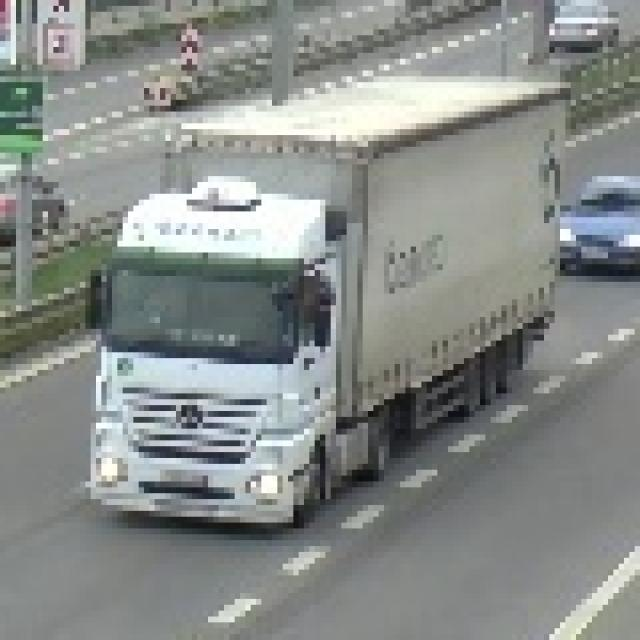TRUCK: (85, 74, 554, 538)
